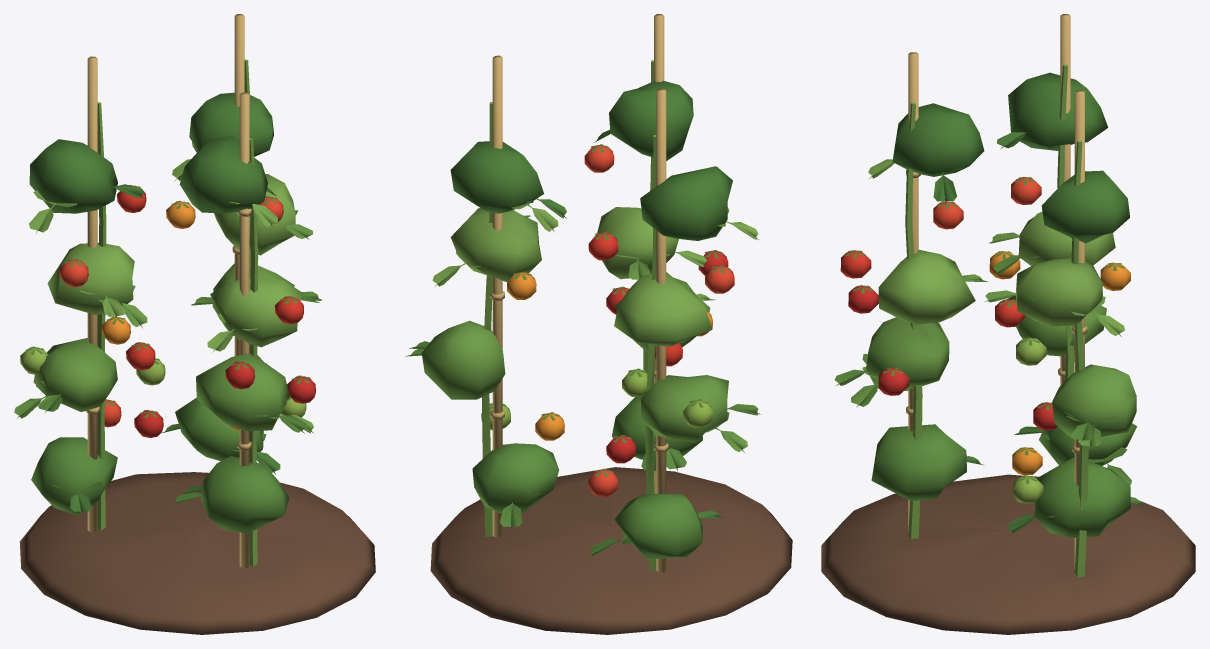
Rendered from tomatoes.glb.
The picture shows the model from 3 angles, left to right: view 1: azimuth 30°, elevation 25°; view 2: azimuth 150°, elevation 25°; view 3: azimuth 270°, elevation 25°; orthographic projection.
Parts seen in each view (by area): view 1: plants, tomatoes, crop; view 2: plants, tomatoes, crop; view 3: plants, tomatoes, crop.
Boxes of the visible parts, x1,y1,x2,y2 form: plants: (14, 59, 322, 566); tomatoes: (19, 14, 375, 634); crop: (20, 185, 315, 437); plants: (405, 60, 761, 569); tomatoes: (430, 14, 792, 634); crop: (481, 144, 734, 496); plants: (834, 64, 1145, 577); tomatoes: (821, 14, 1195, 634); crop: (840, 177, 1130, 503).
Bounding box in the file's own units: 0.8 × 1.19 × 0.8.
